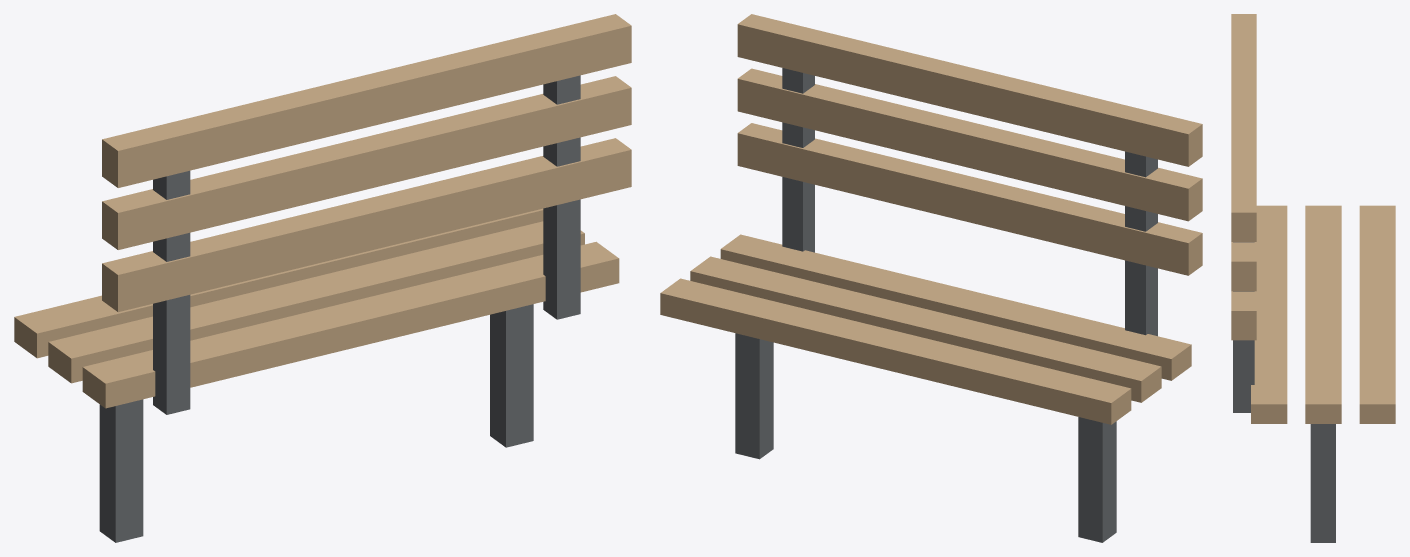
Rendered from bench_03.glb.
3 views of the same model, side by side, from view 1: azimuth 30°, elevation 25°; view 2: azimuth 150°, elevation 25°; view 3: azimuth 270°, elevation 25° (orthographic). The views are drawn at different scales.
Parts seen in each view (by area): view 1: back2, back1, back0, slat0.15, slat0.0, slat-0.15, leg-0.49400000000000005, leg0.49400000000000005, backpost-0.49400000000000005, backpost0.49400000000000005; view 2: back2, back0, back1, slat-0.15, slat0.0, slat0.15, leg-0.49400000000000005, leg0.49400000000000005, backpost0.49400000000000005, backpost-0.49400000000000005; view 3: slat0.0, slat-0.15, slat0.15, back2, leg0.49400000000000005, backpost0.49400000000000005, back0, back1.
Part boxes in pixels (x1,y1,x2,y2): back2: (102,14,631,187); back1: (102,76,631,249); back0: (102,138,631,312); slat0.15: (82,241,619,408); slat0.0: (48,221,584,383); slat-0.15: (14,208,543,358); leg-0.49400000000000005: (99,399,143,542); leg0.49400000000000005: (490,304,533,447); backpost-0.49400000000000005: (153,170,190,414); backpost0.49400000000000005: (543,75,580,319); back2: (737,14,1202,166); back0: (737,123,1202,275); back1: (737,68,1202,221); slat-0.15: (660,278,1131,424); slat0.0: (690,256,1161,402); slat0.15: (720,234,1191,380); leg-0.49400000000000005: (1078,417,1116,542); leg0.49400000000000005: (735,333,773,459); backpost0.49400000000000005: (782,68,814,252); backpost-0.49400000000000005: (1125,151,1157,336); slat0.0: (1305,205,1341,423); slat-0.15: (1359,205,1395,423); slat0.15: (1251,205,1287,423); back2: (1231,14,1256,241); leg0.49400000000000005: (1310,424,1335,542); backpost0.49400000000000005: (1233,242,1254,412); back0: (1231,291,1256,340); back1: (1231,242,1256,291).
Bounding box in the file's own units: 1.3 × 1.07 × 0.455.
